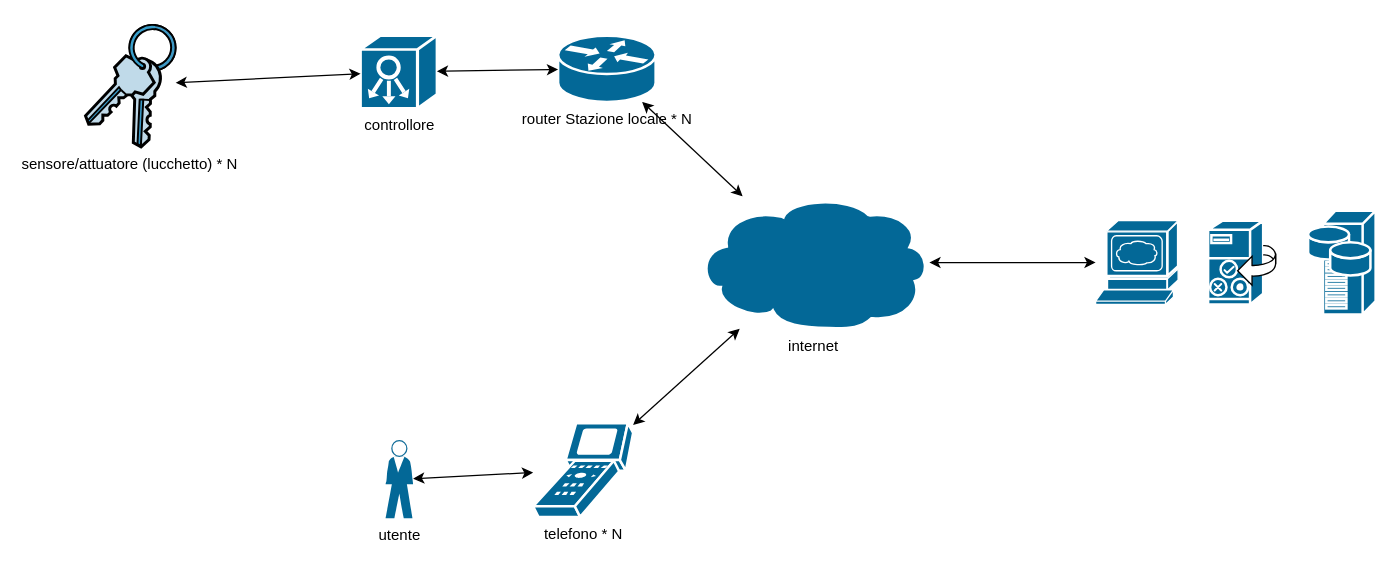
Image size: 1399x565. Some labels were removed from this diagram. Here are the shapes that lost their labels. From the top down, the box of each, then its label:
(1094, 219, 1179, 305): Web server
(1206, 219, 1276, 305): Application server
(1306, 209, 1376, 315): Database
